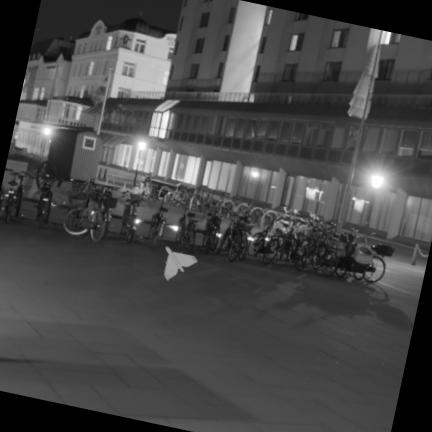Shahed: (165, 247, 197, 280)
